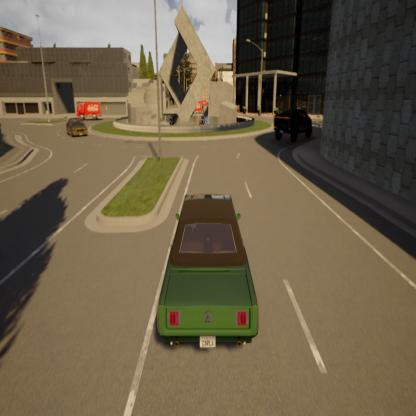Cars: (152, 166, 262, 364), (266, 88, 315, 160), (70, 97, 103, 122), (65, 116, 89, 142)
